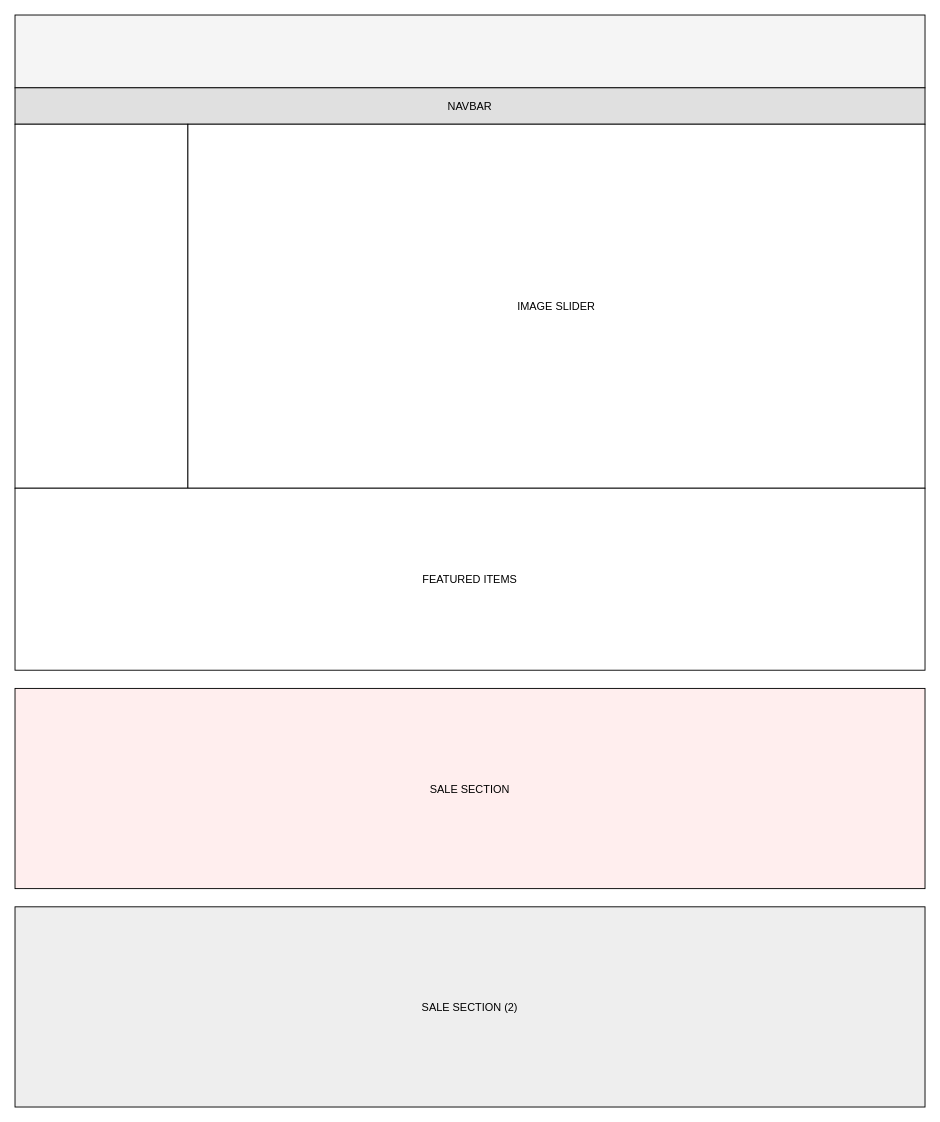
The diagram is 940 pixels wide and 1122 high, and some of its shapes have lost their labels. Each missing label, with the centre of its shape:
"HEADER" belongs at point (469, 51).
"SIDEBAR" belongs at point (101, 305).
